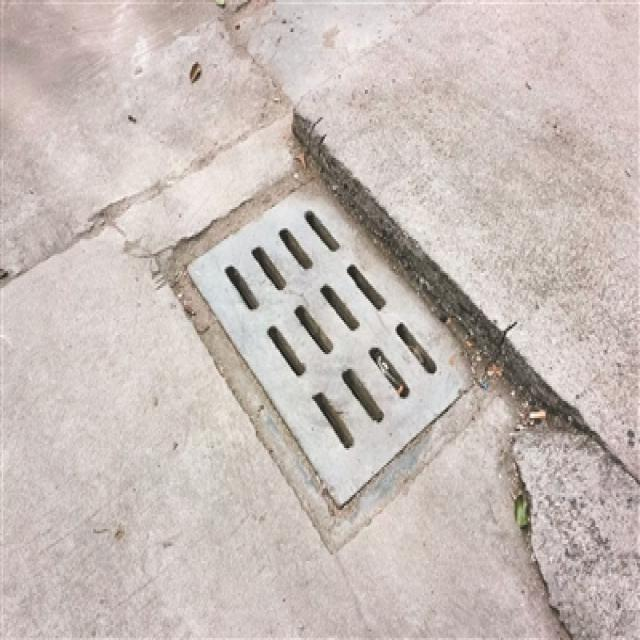manhole: (163, 175, 481, 518)
